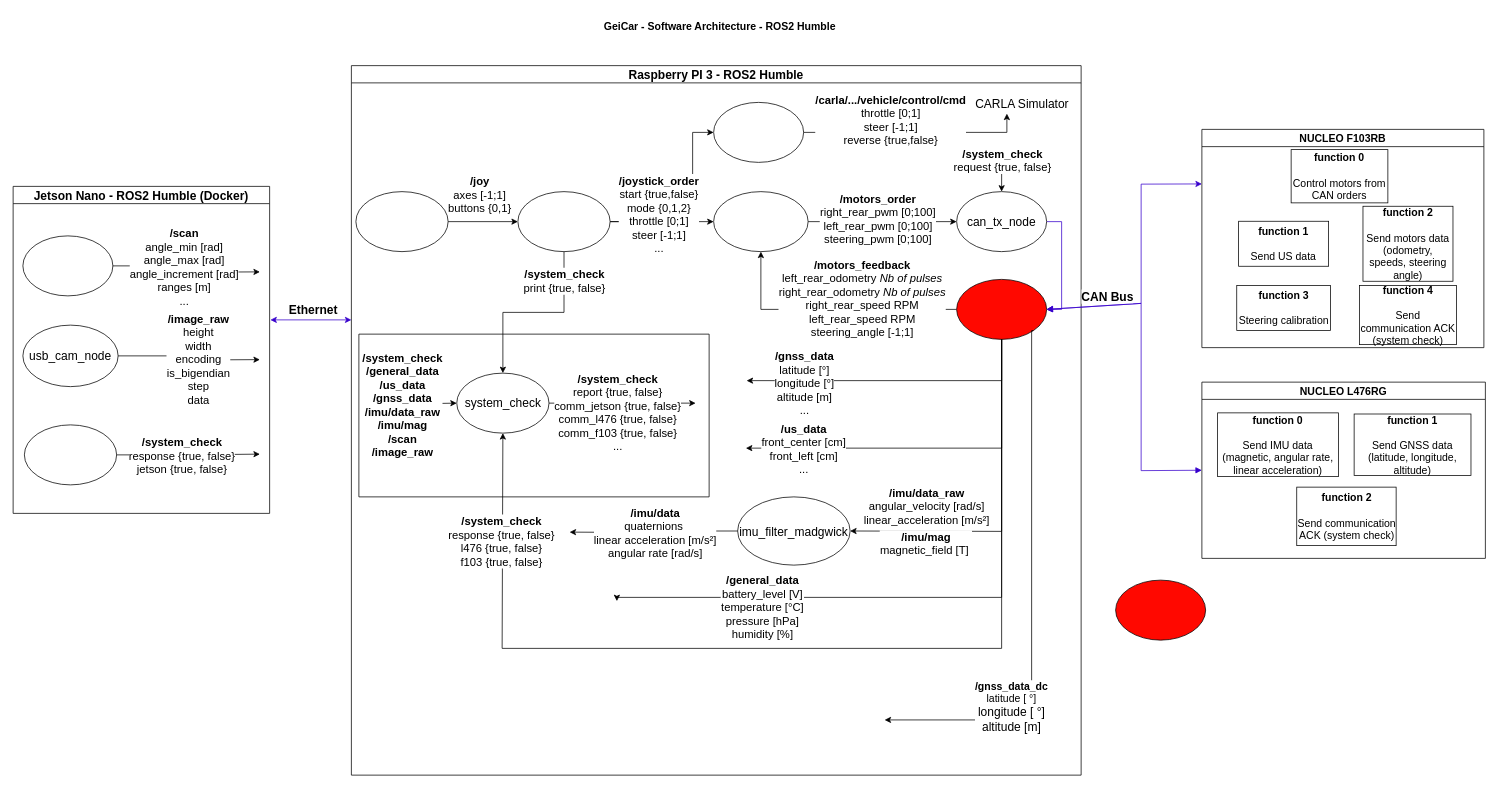
This 1499x788 diagram has some shape labels left out. The centre of each missing label's shape, as x and y in pixels:
can_rx_node: the point at 1001,309
car_control_node: the point at 760,221
joystick_ros2: the point at 401,221
joystick_to_cmd _node: the point at 563,221
Noeuds à lancer: the point at 1160,609
rplidar_ros: the point at 67,265
simulation_node: the point at 758,132
system_check _ack: the point at 70,454
